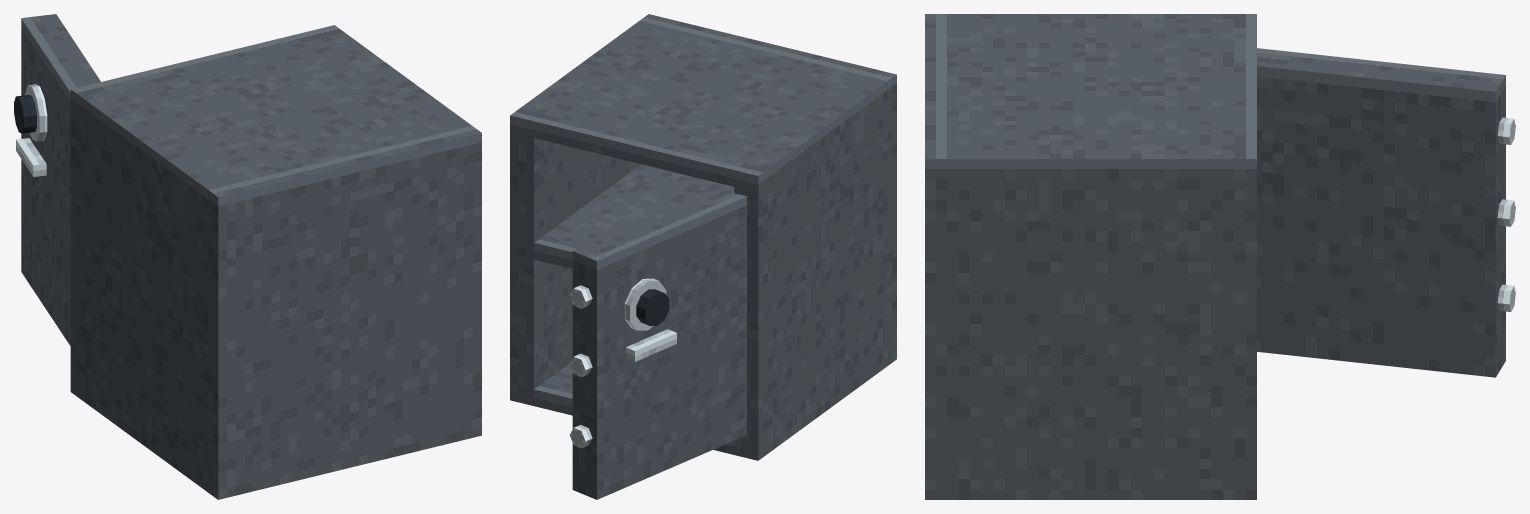
The model's file is f_safe_o.glb.
The picture shows the model from 3 angles, left to right: view 1: azimuth 30°, elevation 25°; view 2: azimuth 150°, elevation 25°; view 3: azimuth 270°, elevation 25°; orthographic projection. The views are drawn at different scales.
Parts seen in each view (by area): view 1: block_back, block_side--0.28, block_shelf-1, block_armored-door, block_side-0.28, block_combination-dial, block_handle, block_numbered-dial-ring; view 2: block_side--0.28, block_armored-door, block_shelf-1, block_side-0.28, block_shelf-2, block_back, block_shelf-0, block_combination-dial, block_numbered-dial-ring, block_handle; view 3: block_side-0.28, block_armored-door, block_shelf-1, block_back, block_side--0.28.
Part boxes in pixels (x1,y1,x2,y2): block_back: [208, 126, 481, 499]; block_side--0.28: [70, 83, 233, 492]; block_shelf-1: [96, 31, 445, 183]; block_armored-door: [21, 14, 100, 345]; block_side-0.28: [309, 25, 471, 131]; block_combination-dial: [14, 95, 36, 133]; block_handle: [16, 138, 46, 176]; block_numbered-dial-ring: [24, 84, 47, 141]; block_side--0.28: [734, 75, 887, 460]; block_armored-door: [572, 185, 746, 499]; block_shelf-1: [534, 26, 863, 186]; block_side-0.28: [510, 21, 662, 405]; block_shelf-2: [534, 164, 725, 268]; block_back: [640, 14, 896, 365]; block_shelf-0: [534, 363, 734, 454]; block_combination-dial: [636, 289, 669, 325]; block_numbered-dial-ring: [624, 278, 666, 330]; block_handle: [625, 329, 676, 361]; block_side-0.28: [947, 145, 1256, 499]; block_armored-door: [1257, 48, 1505, 377]; block_shelf-1: [947, 28, 1256, 144]; block_back: [925, 14, 946, 499]; block_side--0.28: [947, 14, 1256, 27].
Size of the model in its own units: 0.62 by 0.68 by 1.07.
1 material, 1 textured.
